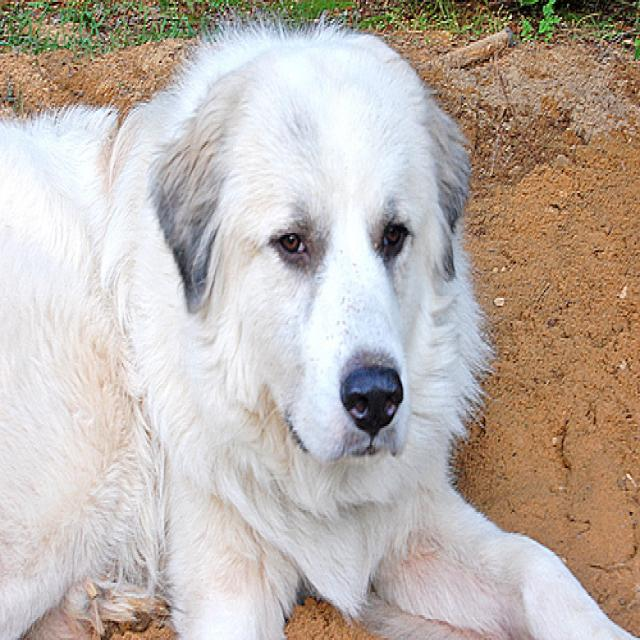dog-great_pyrenees: (1, 6, 637, 636)
